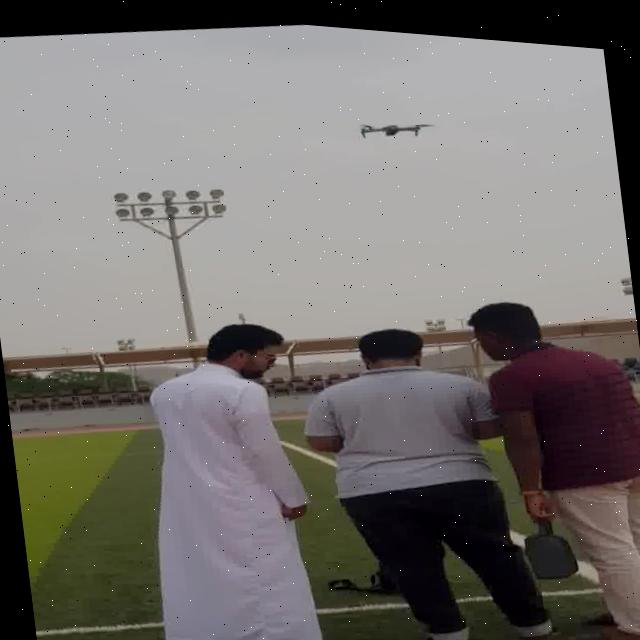drone: (357, 105, 434, 140)
